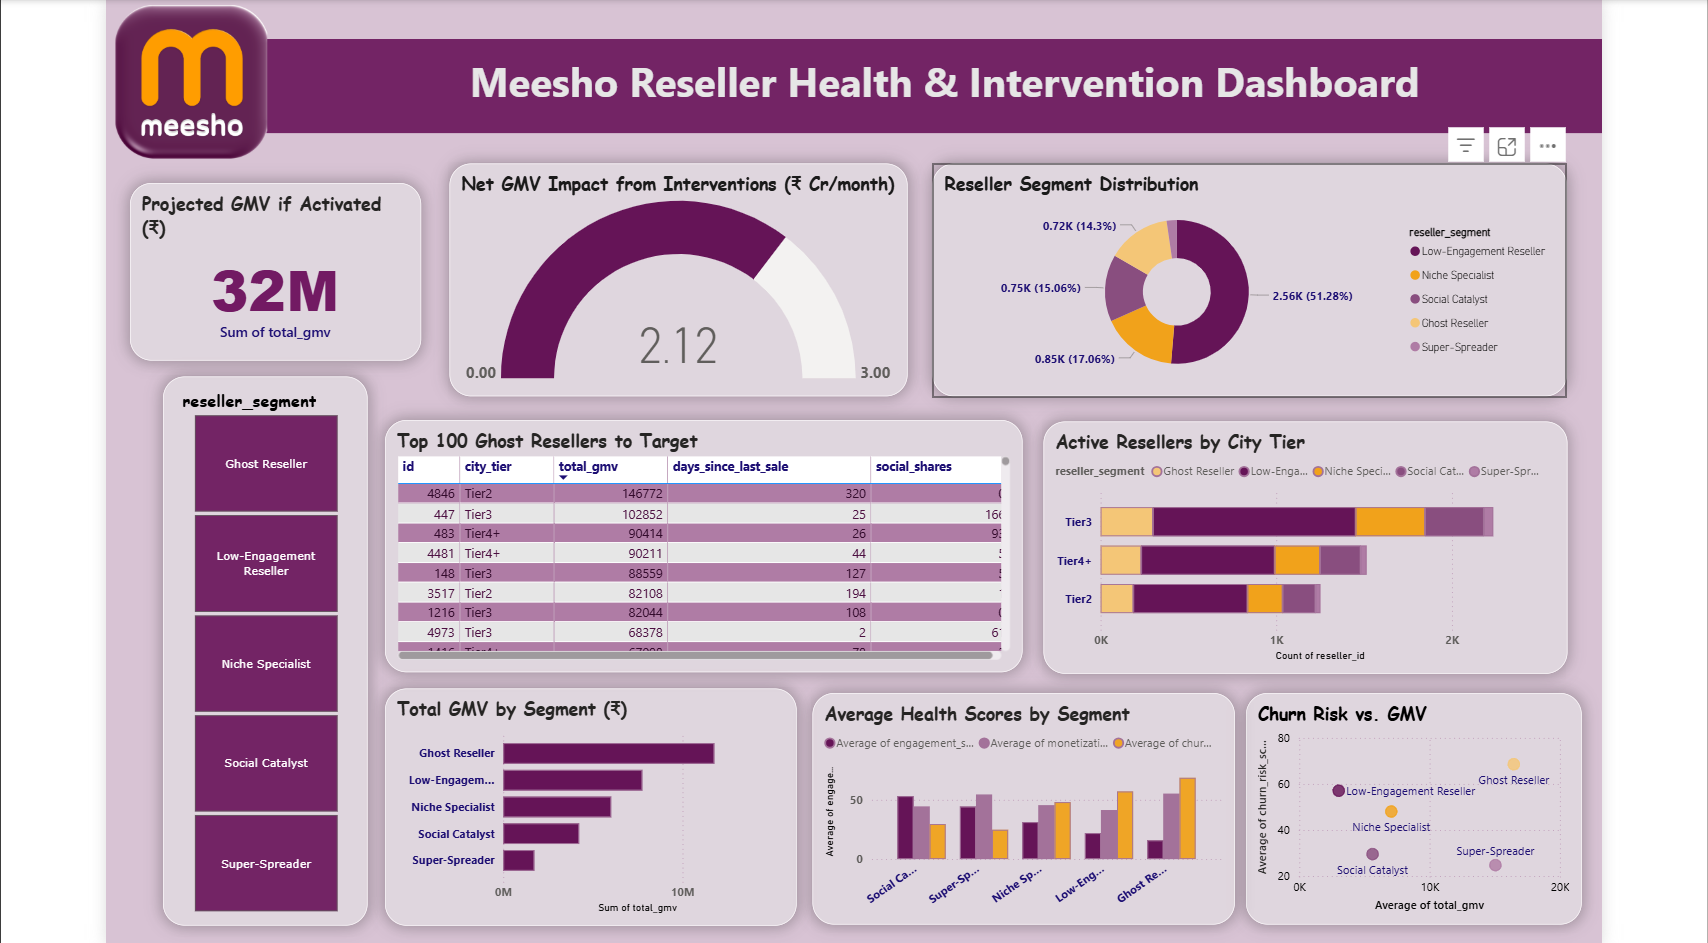

This screenshot's page, from the dashboard's own definition file:
{"tool":"powerbi","page":{"name":"Page 1","canvas":[1590,1005],"ordinal":0},"visuals":[{"type":"textbox","box":[169.7,41.2,1444.5,99.9],"z":0},{"type":"image","box":[0,0,180.8,174.4],"z":1000},{"type":"donutChart","title":"Reseller Segment Distribution","fields":{"Category":["reseller_features_final.reseller_segment"],"Y":["CountNonNull(reseller_features_final.reseller_segment)"]},"box":[878.5,174.4,673.9,247.4],"z":2000},{"type":"clusteredBarChart","title":"Total GMV by Segment (₹)","fields":{"Category":["reseller_features_final.reseller_segment"],"Y":["Sum(reseller_features_final.total_gmv)"]},"box":[296.5,731,437.6,252.1],"z":3000},{"type":"scatterChart","title":"Churn Risk vs. GMV","fields":{"X":["Avg(reseller_features_final.total_gmv)"],"Y":["Avg(reseller_features_final.churn_risk_score)"],"Series":["reseller_features_final.reseller_segment"]},"box":[1211.4,735.7,356.8,245.8],"z":4000},{"type":"barChart","title":"Active Resellers by City Tier","fields":{"Category":["reseller_features_final.city_tier"],"Y":["CountNonNull(reseller_features_final.reseller_id)"],"Series":["reseller_features_final.reseller_segment"]},"box":[995.8,447.2,556.6,268],"z":5000},{"type":"slicer","title":"Active Resellers by City Tier","fields":{"Values":["reseller_features_final.reseller_segment"]},"box":[60.3,399.6,217.2,583.5],"z":6000},{"type":"card","title":"Projected GMV if Activated (₹)","fields":{"Values":["Sum(reseller_features_final.total_gmv)"]},"box":[25.4,195,309.2,188.7],"z":7000},{"type":"clusteredColumnChart","title":"Average Health Scores by Segment","fields":{"Category":["reseller_features_final.reseller_segment"],"Y":["Avg(reseller_features_final.engagement_score)","Avg(reseller_features_final.monetization_score)","Avg(reseller_features_final.churn_risk_score)"]},"box":[750,735.7,448.7,245.8],"z":8000},{"type":"tableEx","title":"Top 100 Ghost Resellers to Target","fields":{"Values":["reseller_features_final.reseller_id","reseller_features_final.city_tier","reseller_features_final.total_gmv","reseller_features_final.days_since_last_sale","reseller_features_final.social_shares"]},"box":[296.5,445.6,677.1,268],"z":9000},{"type":"gauge","title":"Net GMV Impact from Interventions (₹ Cr/month)","fields":{"MaxValue":["reseller_features_final.max"],"Y":["reseller_features_final.Net GMV Impact (₹ Cr)"]},"box":[364.7,174.4,486.8,247.4],"z":10000}]}

Visuals, with their boxes on the page's 1590x1005 design canvas (x1, y1, x2, y2). These are canvas units, not pixel positions in the 1708x943 screenshot, which may show the page scaled, cropped or inside an application window:
textbox: detection(170, 41, 1614, 141)
image: detection(0, 0, 181, 174)
"Reseller Segment Distribution" donutChart: detection(878, 174, 1552, 422)
"Total GMV by Segment (₹)" clusteredBarChart: detection(296, 731, 734, 983)
"Churn Risk vs. GMV" scatterChart: detection(1211, 736, 1568, 982)
"Active Resellers by City Tier" barChart: detection(996, 447, 1552, 715)
"Active Resellers by City Tier" slicer: detection(60, 400, 278, 983)
"Projected GMV if Activated (₹)" card: detection(25, 195, 335, 384)
"Average Health Scores by Segment" clusteredColumnChart: detection(750, 736, 1199, 982)
"Top 100 Ghost Resellers to Target" tableEx: detection(296, 446, 974, 714)
"Net GMV Impact from Interventions (₹ Cr/month)" gauge: detection(365, 174, 852, 422)
